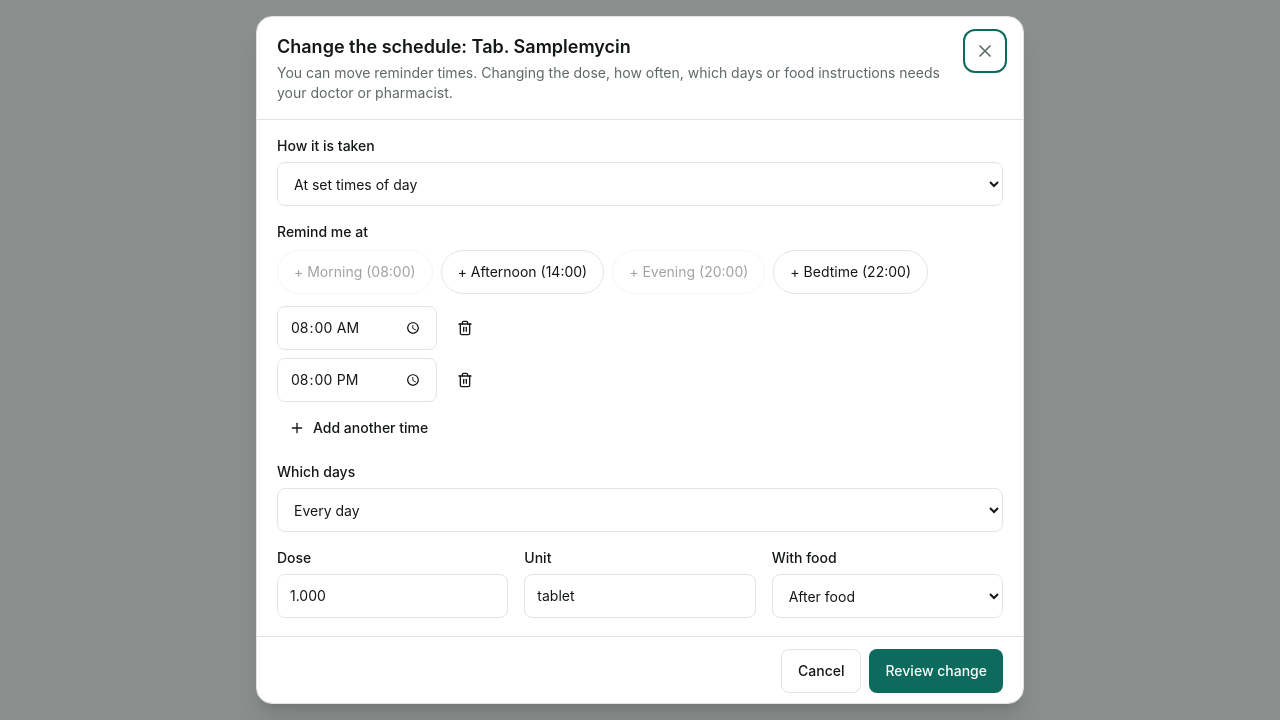
it: ScheduleDialog › asks to acknowledge timing warnings
The image size is (1280, 720).
Click the button "Review change". click: (936, 671)
box: [870, 649, 1003, 693]
(page scrolled)
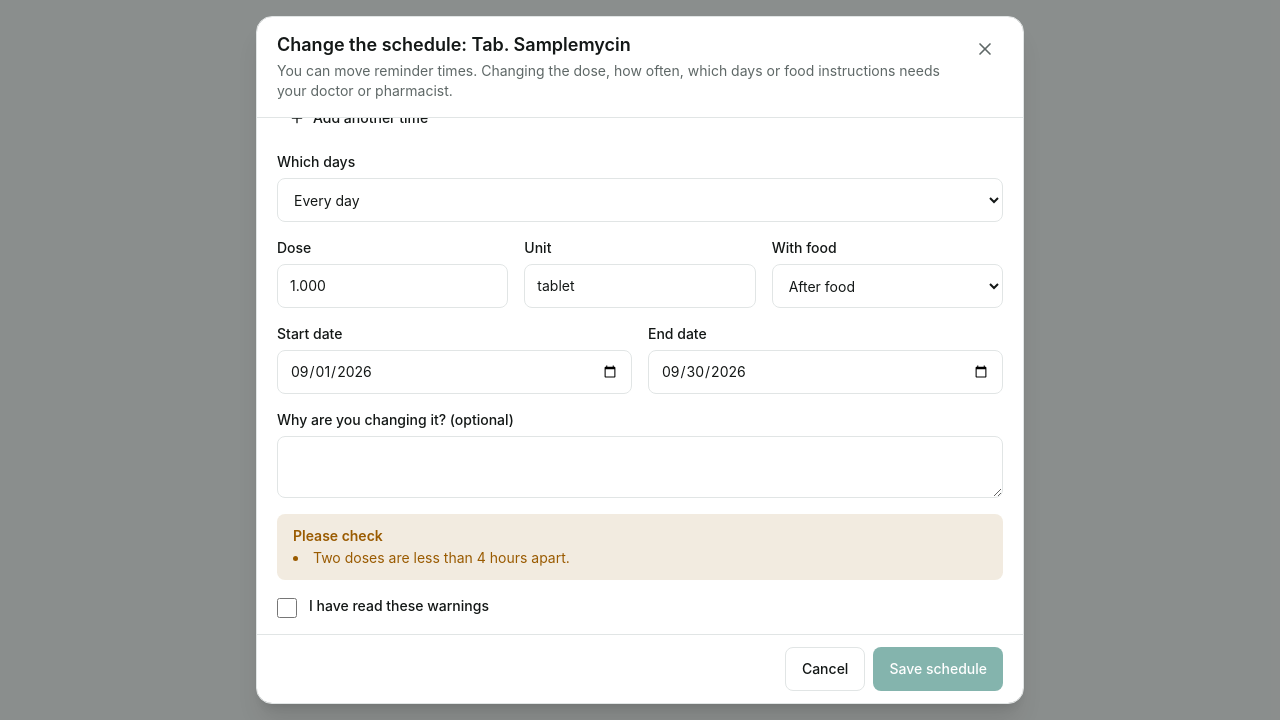
Result: the button "Save schedule" is disabled at [873, 647, 1003, 691]
Click the checkbox labelled "I have read these warnings". click: (287, 608)
box: [277, 598, 297, 618]
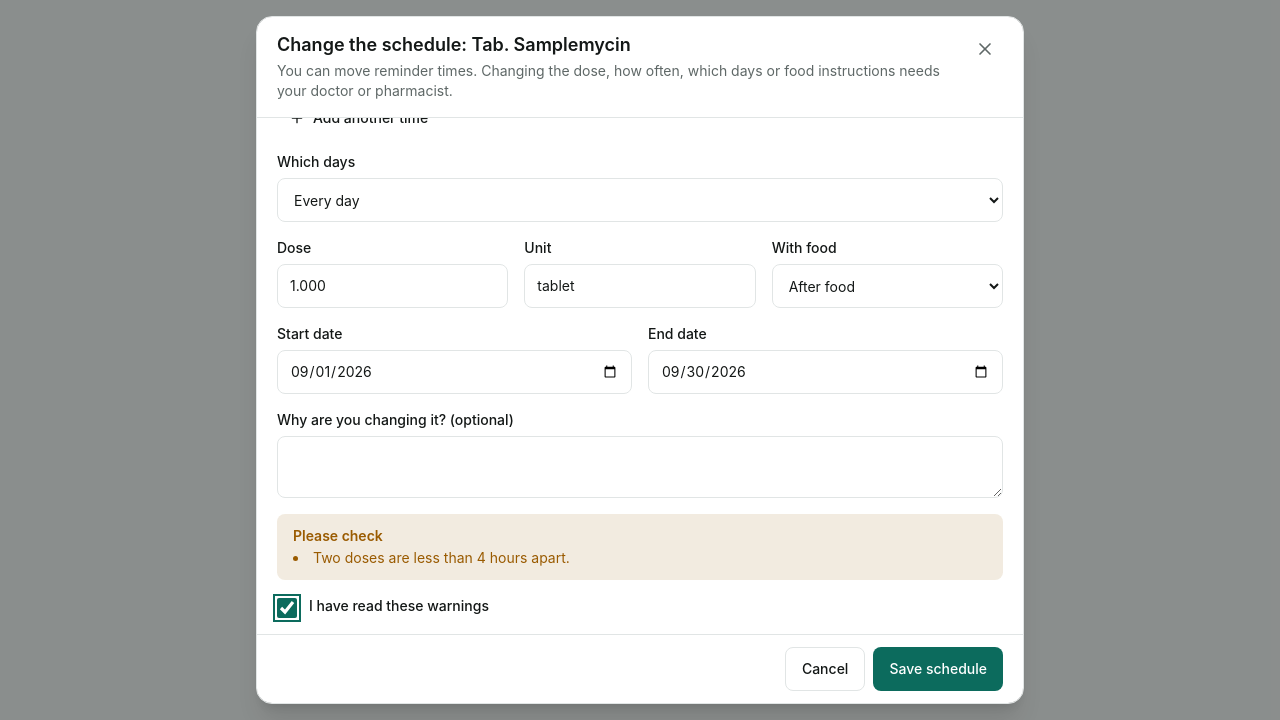
Result: the button "Save schedule" is enabled at [873, 647, 1003, 691]
